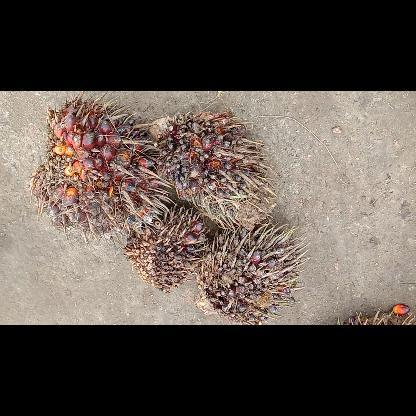TBS abnormal: (148, 111, 276, 227), (198, 222, 298, 324), (124, 206, 206, 292)
TBS masak: (30, 91, 167, 235)
